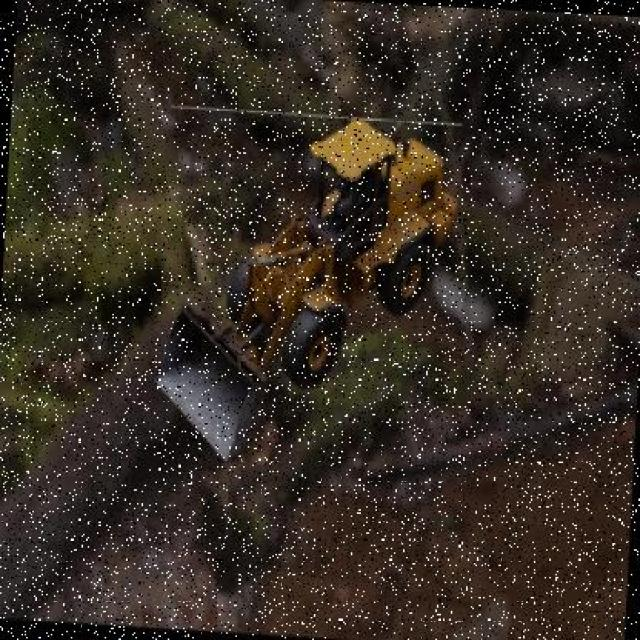buldozerpayloadergrader: (146, 103, 457, 477)
